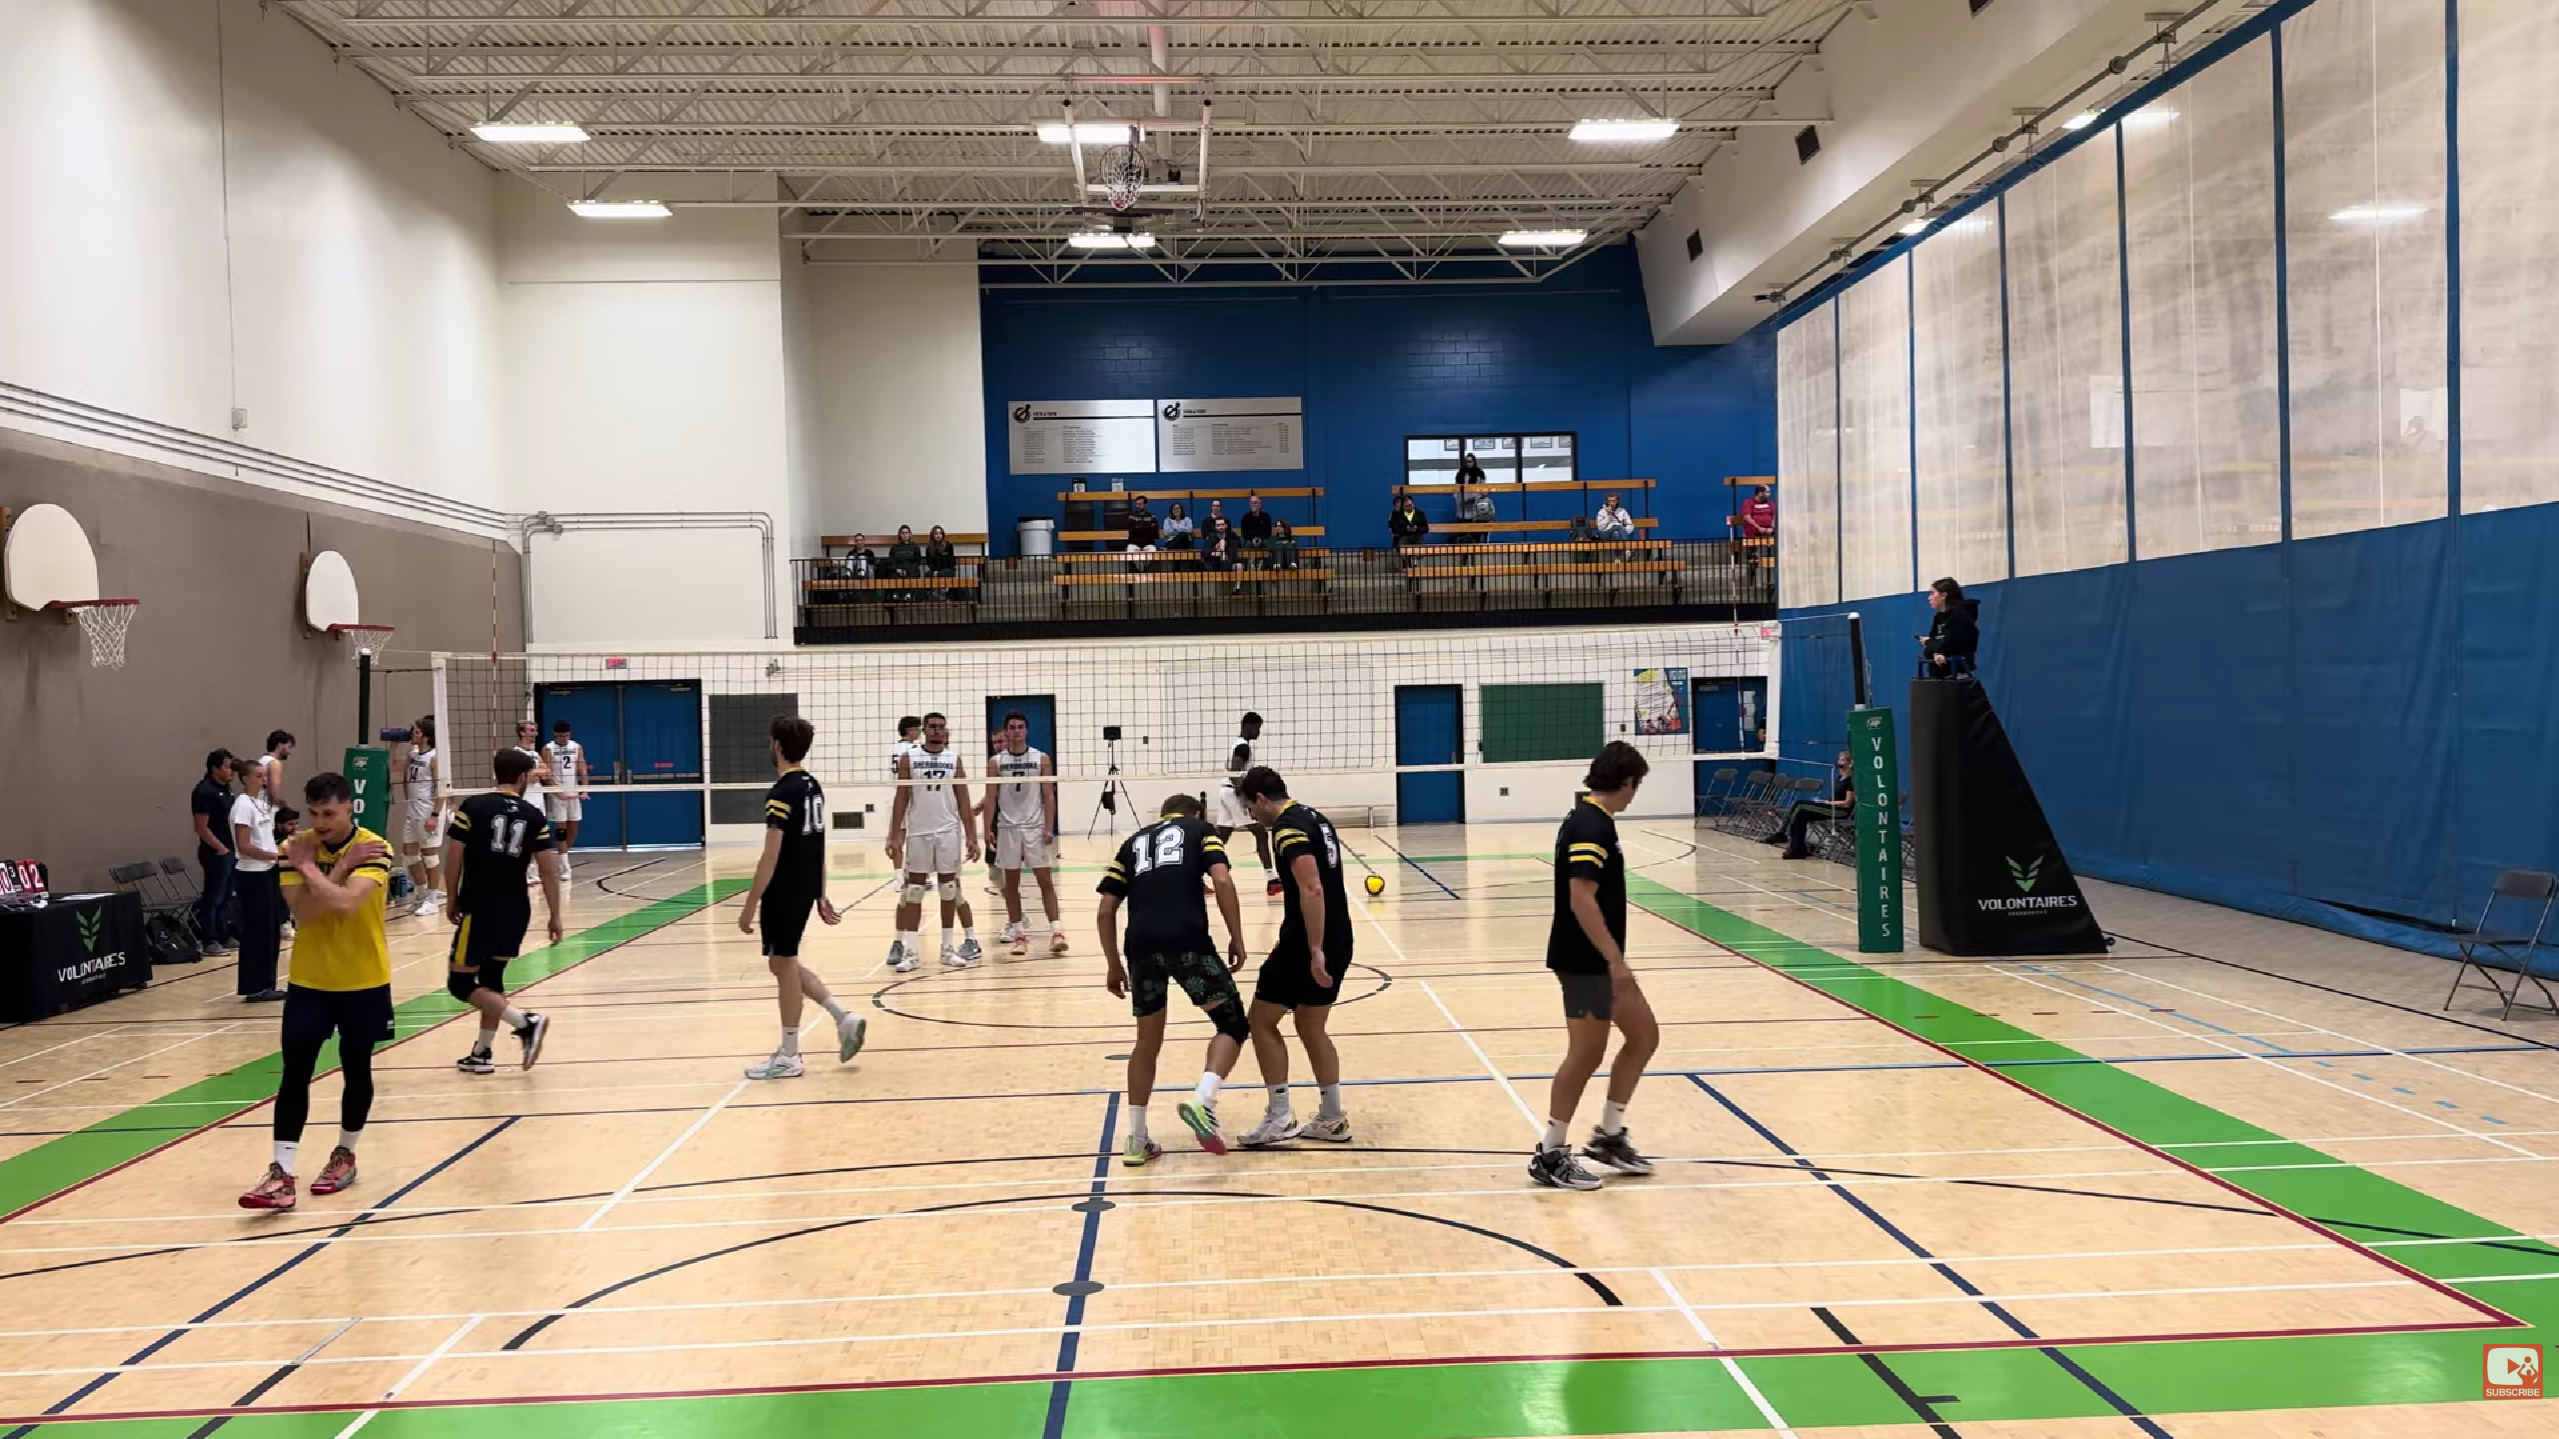Ball: (1364, 873, 1385, 896)
